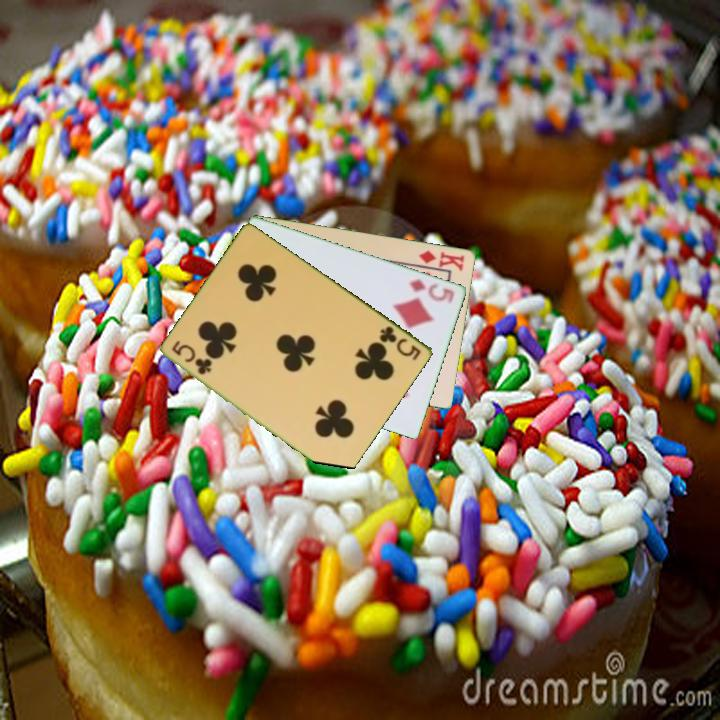5c: (376, 322, 424, 363), (168, 337, 215, 378)
5d: (405, 275, 458, 307)
Kd: (416, 246, 468, 274)
